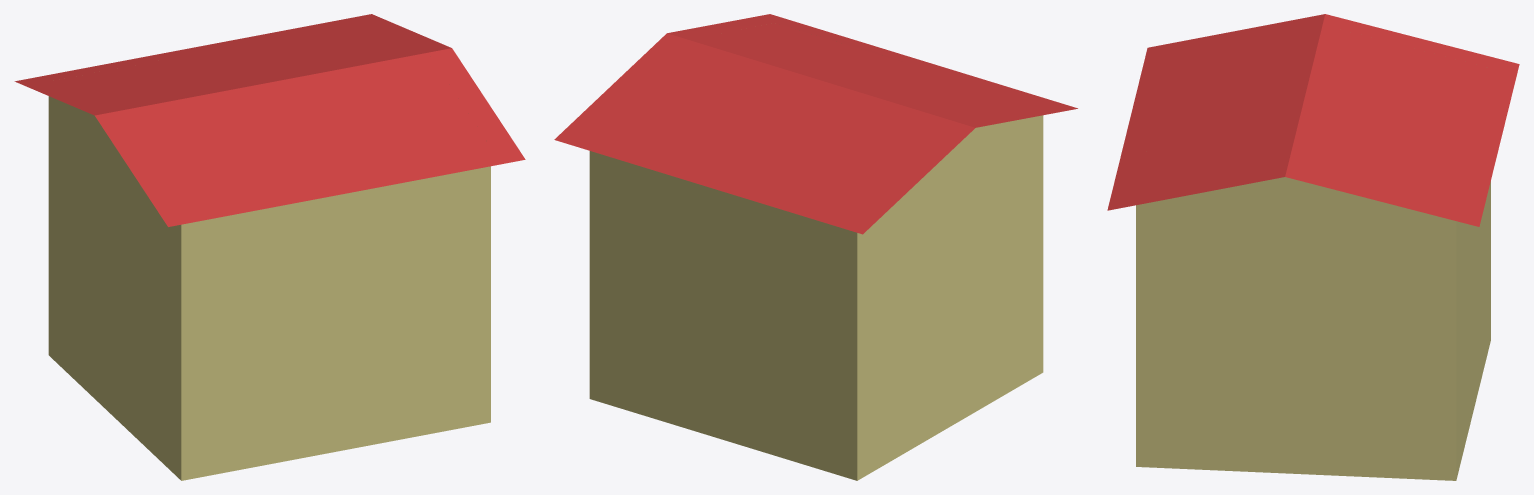
The picture shows the model from 3 angles, left to right: view 1: azimuth 30°, elevation 25°; view 2: azimuth 150°, elevation 25°; view 3: azimuth 270°, elevation 25°; orthographic projection. The views are drawn at different scales.
Size of the model in its own units: 8.19 by 7.95 by 6.54.
